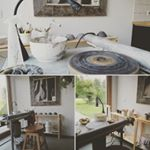cups: (29, 34, 68, 62)
